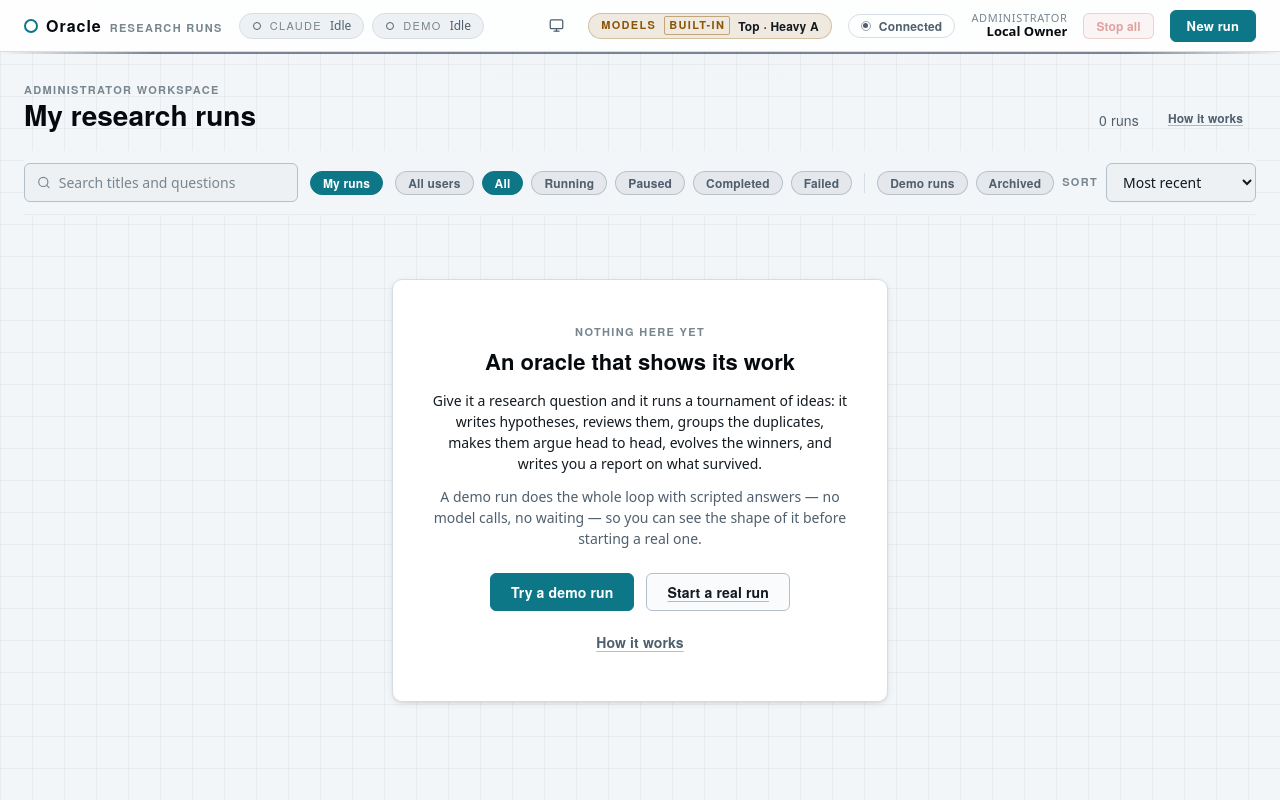
Test case: model editor — editing, resetting and saving › still shows the engine's table when the stored default cannot be read
This screenshot has width=1280, height=800.
Step 1. Click the button "Models Built-in Top · Heavy A" → click(710, 26), box [588,12,832,38]
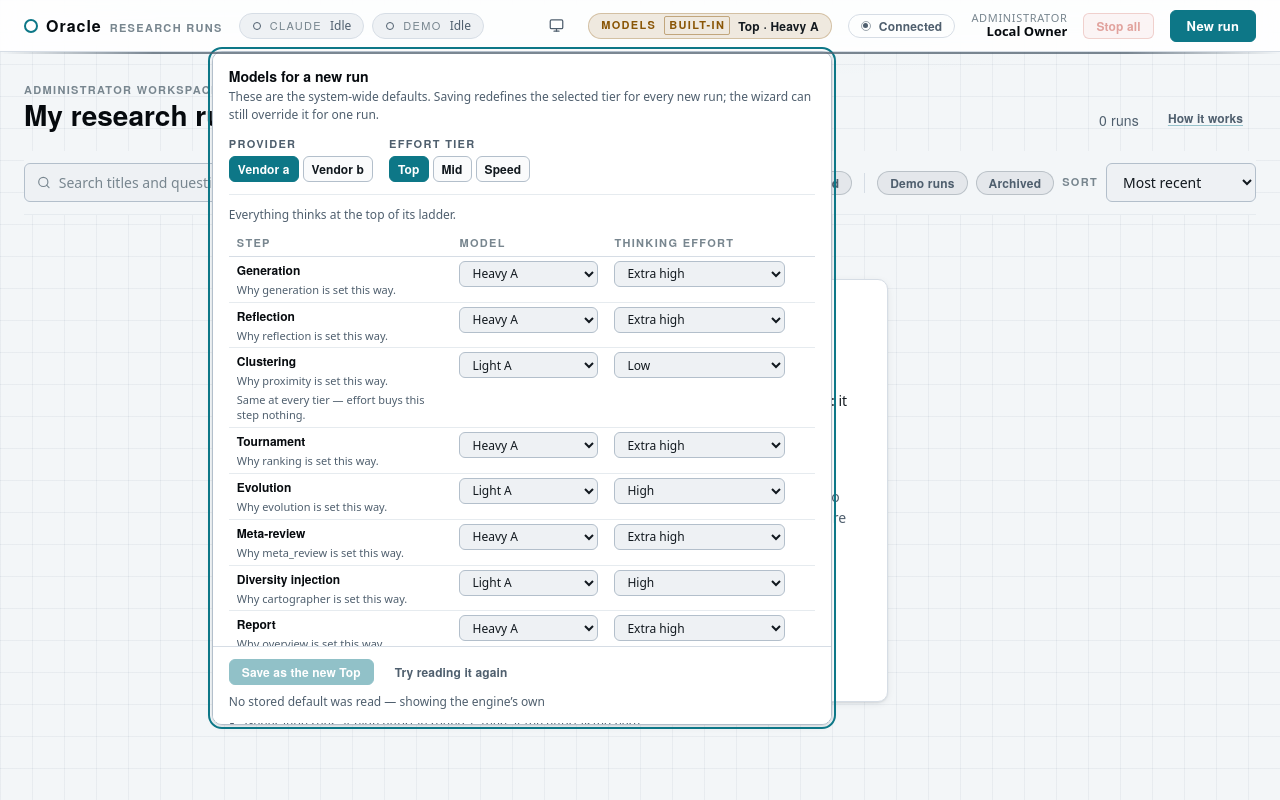
Expected: the 1st dropdown named "Model for Generation" shows "Heavy A", [460,261,598,287]
Expected: the text "No stored default was read — showing the engine’s own" is shown, [229,694,545,712]
Expected: the button "Try reading it again" is shown, [382,660,520,686]
